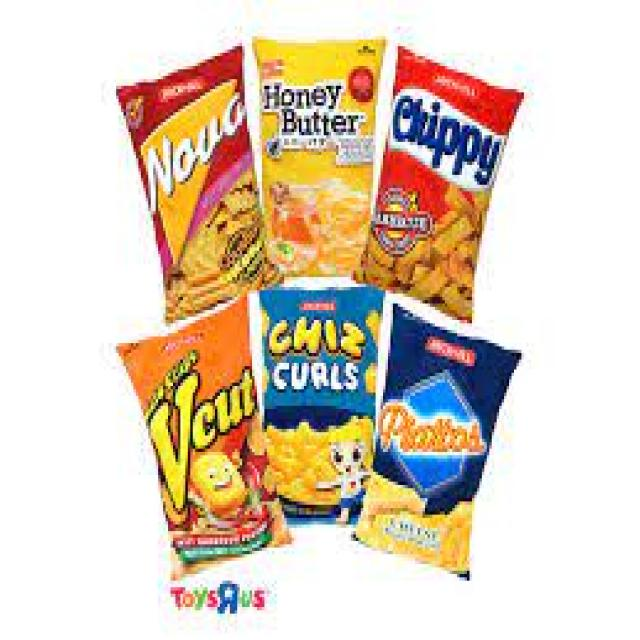junkfood wrapper: (355, 45, 524, 320), (355, 295, 521, 573), (119, 295, 290, 562), (117, 45, 275, 321), (250, 285, 385, 522), (254, 38, 385, 277)
